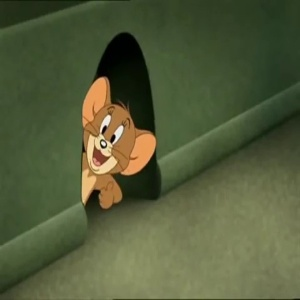Jerry: (77, 76, 158, 177)
